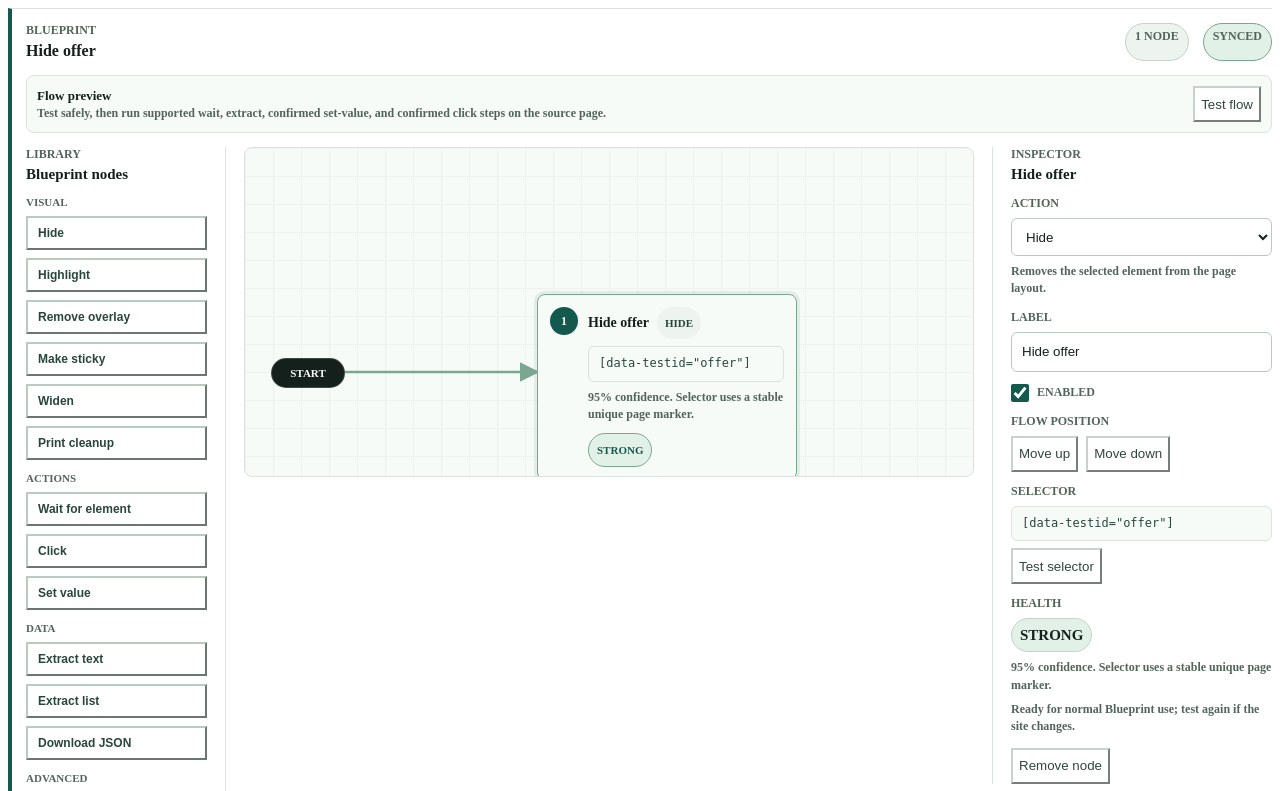
BlueprintPreview › tests the selected node selector against the source page
This screenshot has width=1280, height=791.
Click the button "Test selector" at (1056,566), box x1=1011 y1=548 x2=1102 y2=584
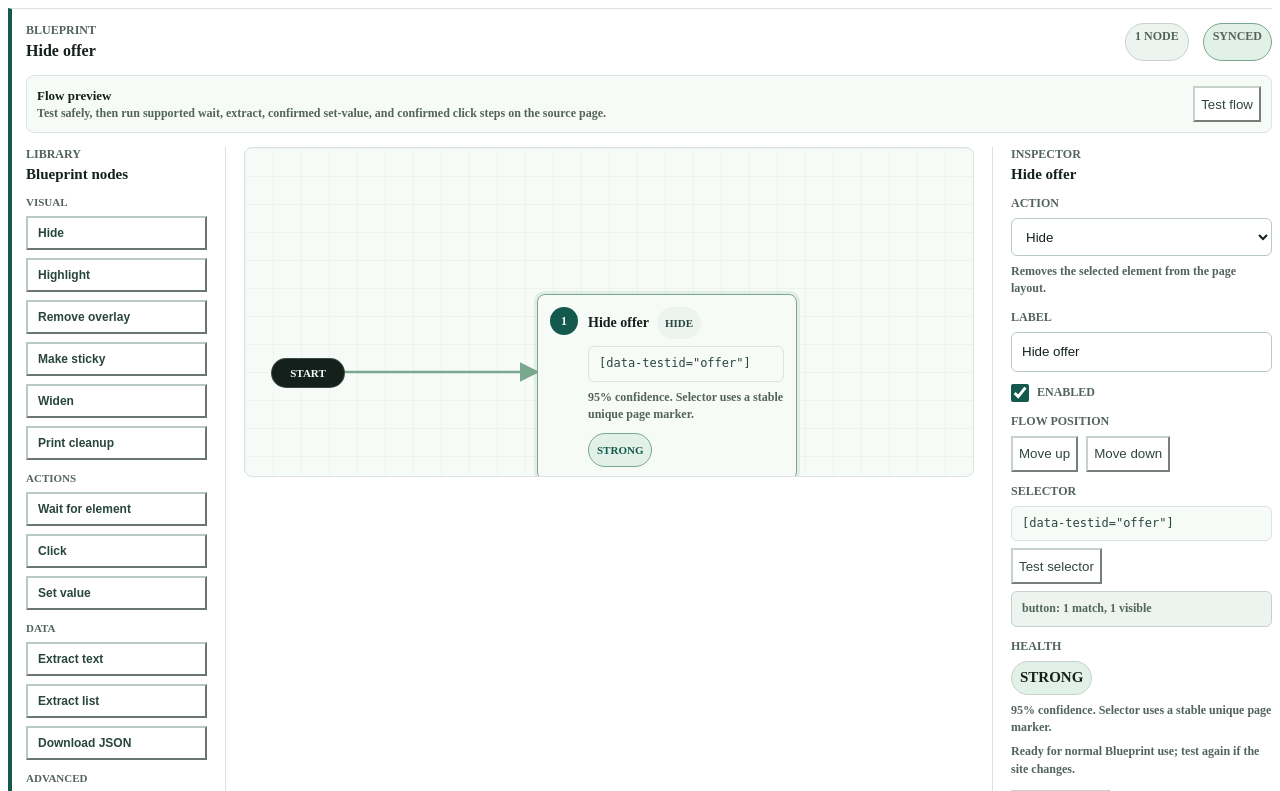
Check: the text "button: 1 match, 1 visible" is shown, box x1=1011 y1=591 x2=1272 y2=627
